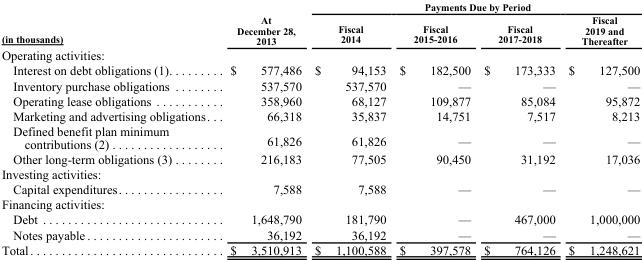table: (0, 0, 639, 256)
table column: (0, 0, 219, 256), (219, 0, 307, 256), (307, 0, 392, 256), (476, 0, 561, 256), (392, 0, 476, 256), (561, 0, 639, 256)
table column header: (0, 0, 639, 46)
table projected row header: (0, 46, 639, 62), (0, 166, 639, 181), (0, 196, 639, 211)
table row: (0, 13, 639, 46), (0, 123, 639, 151), (0, 46, 639, 62), (0, 92, 639, 108), (0, 62, 639, 77), (0, 77, 639, 92), (0, 108, 639, 123), (0, 151, 639, 166), (0, 166, 639, 181), (0, 181, 639, 196), (0, 196, 639, 211), (0, 211, 639, 226), (0, 226, 639, 241), (0, 241, 639, 256), (0, 0, 639, 13)
table spanning cell: (0, 0, 219, 46), (307, 0, 639, 13), (219, 0, 307, 46)
